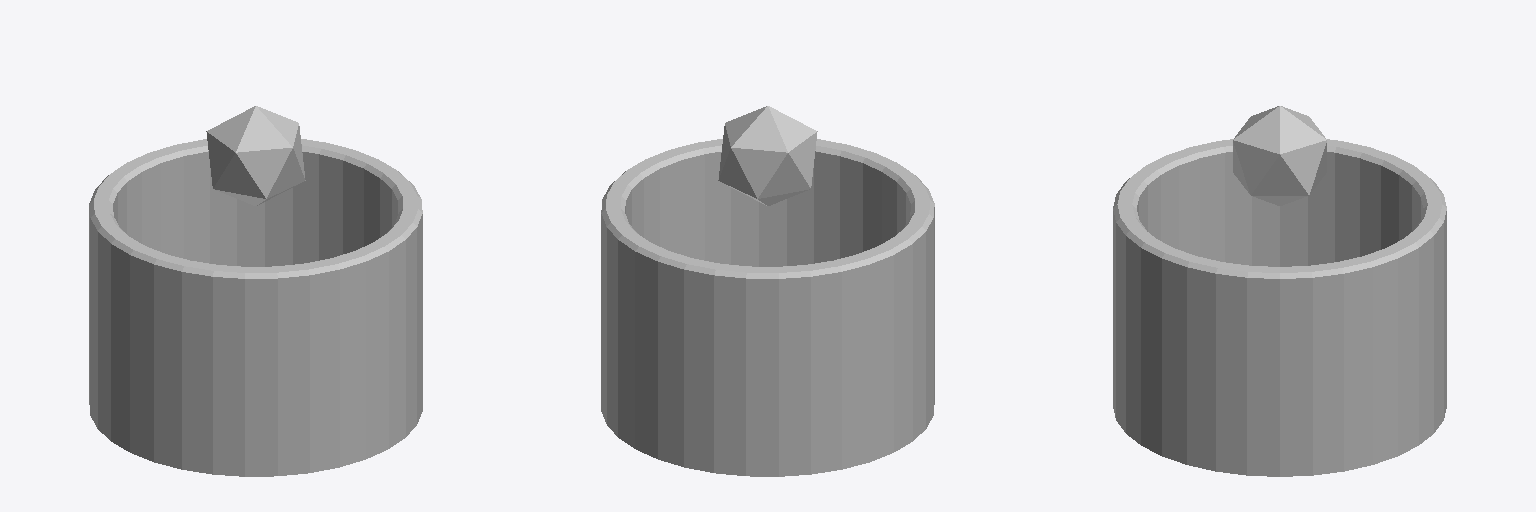
The model's file is explosives_tower.obj.
3 views of the same model, side by side, from view 1: azimuth 30°, elevation 25°; view 2: azimuth 150°, elevation 25°; view 3: azimuth 270°, elevation 25° (orthographic).
Parts seen in each view (by area): view 1: Chamber, Sphere; view 2: Chamber, Sphere; view 3: Chamber, Sphere.
Boxes of the visible parts, <box> form: Chamber: <box>89,139,422,476</box>; Sphere: <box>206,106,305,205</box>; Chamber: <box>601,139,934,476</box>; Sphere: <box>718,106,817,205</box>; Chamber: <box>1113,139,1446,476</box>; Sphere: <box>1233,106,1326,205</box>.
Size of the model in its own units: 1.5 by 1.49 by 1.5.